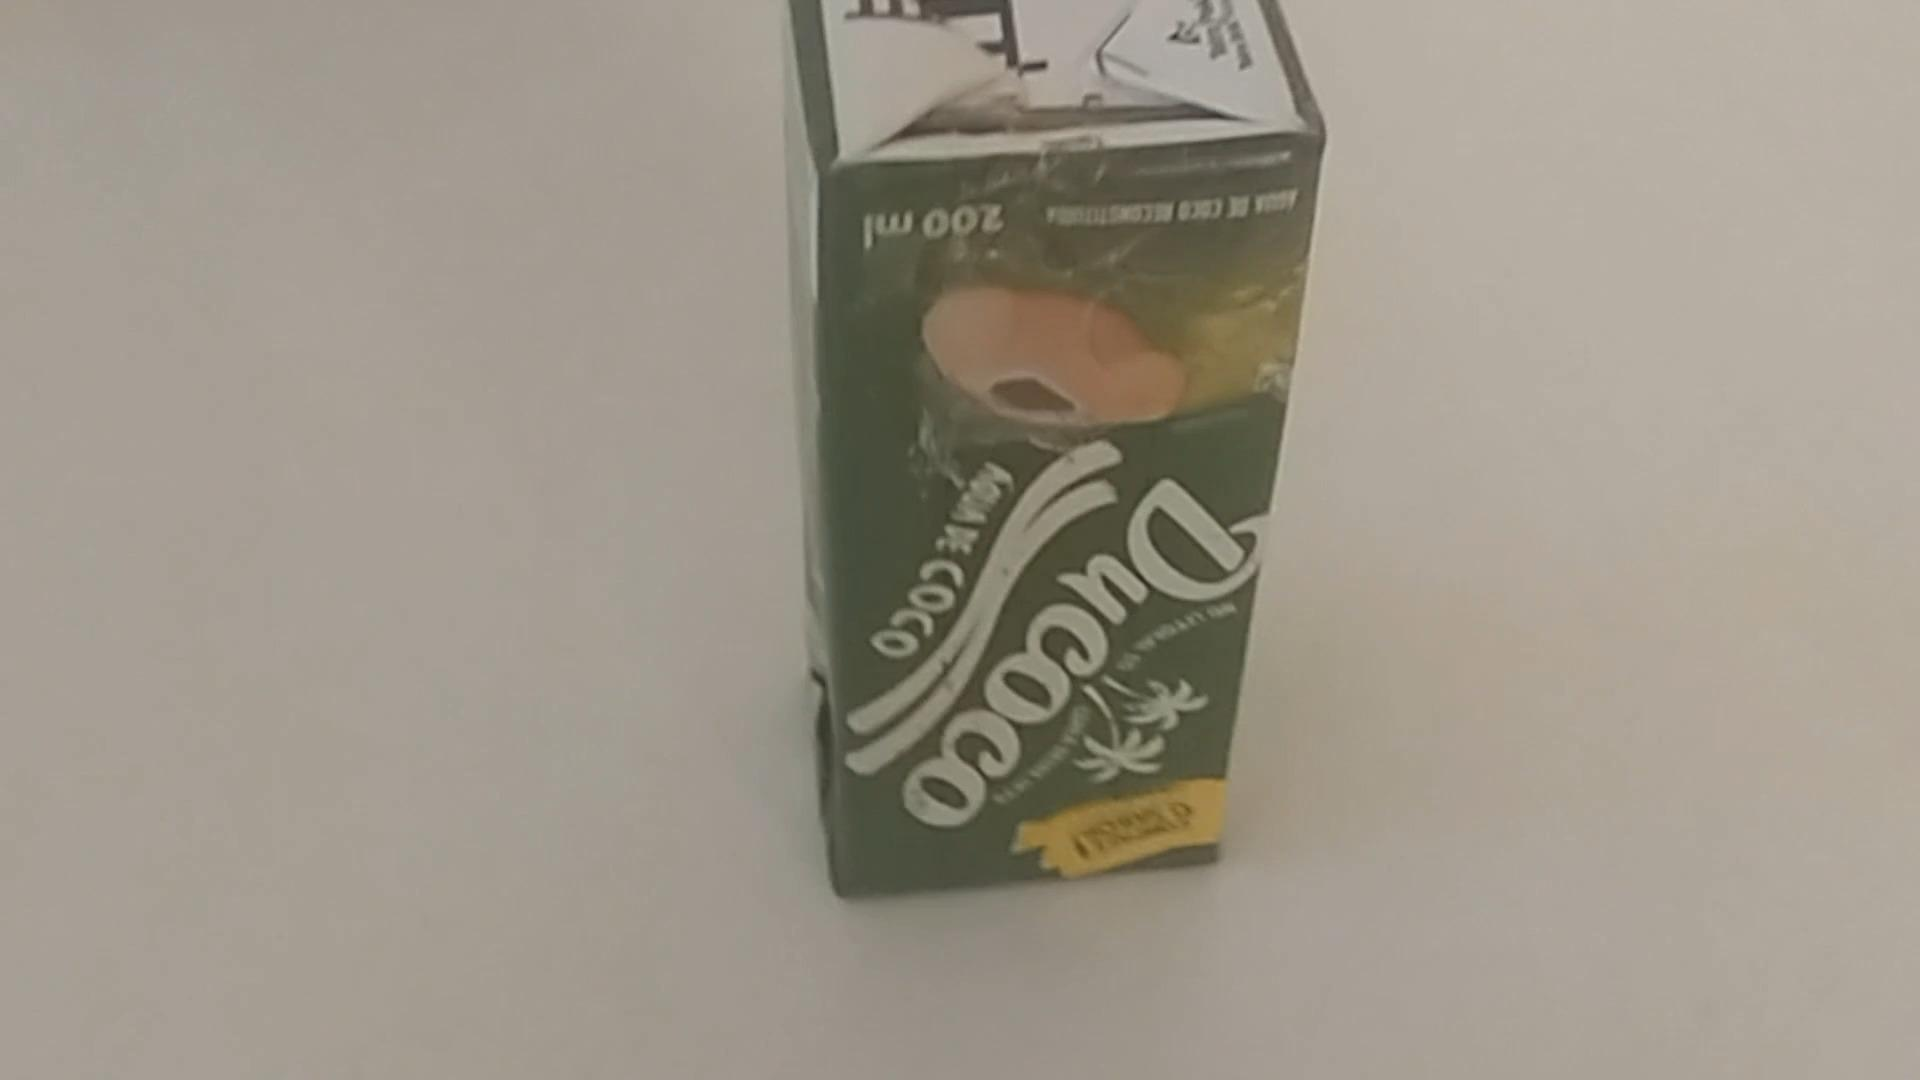coco: (777, 0, 1315, 903)
